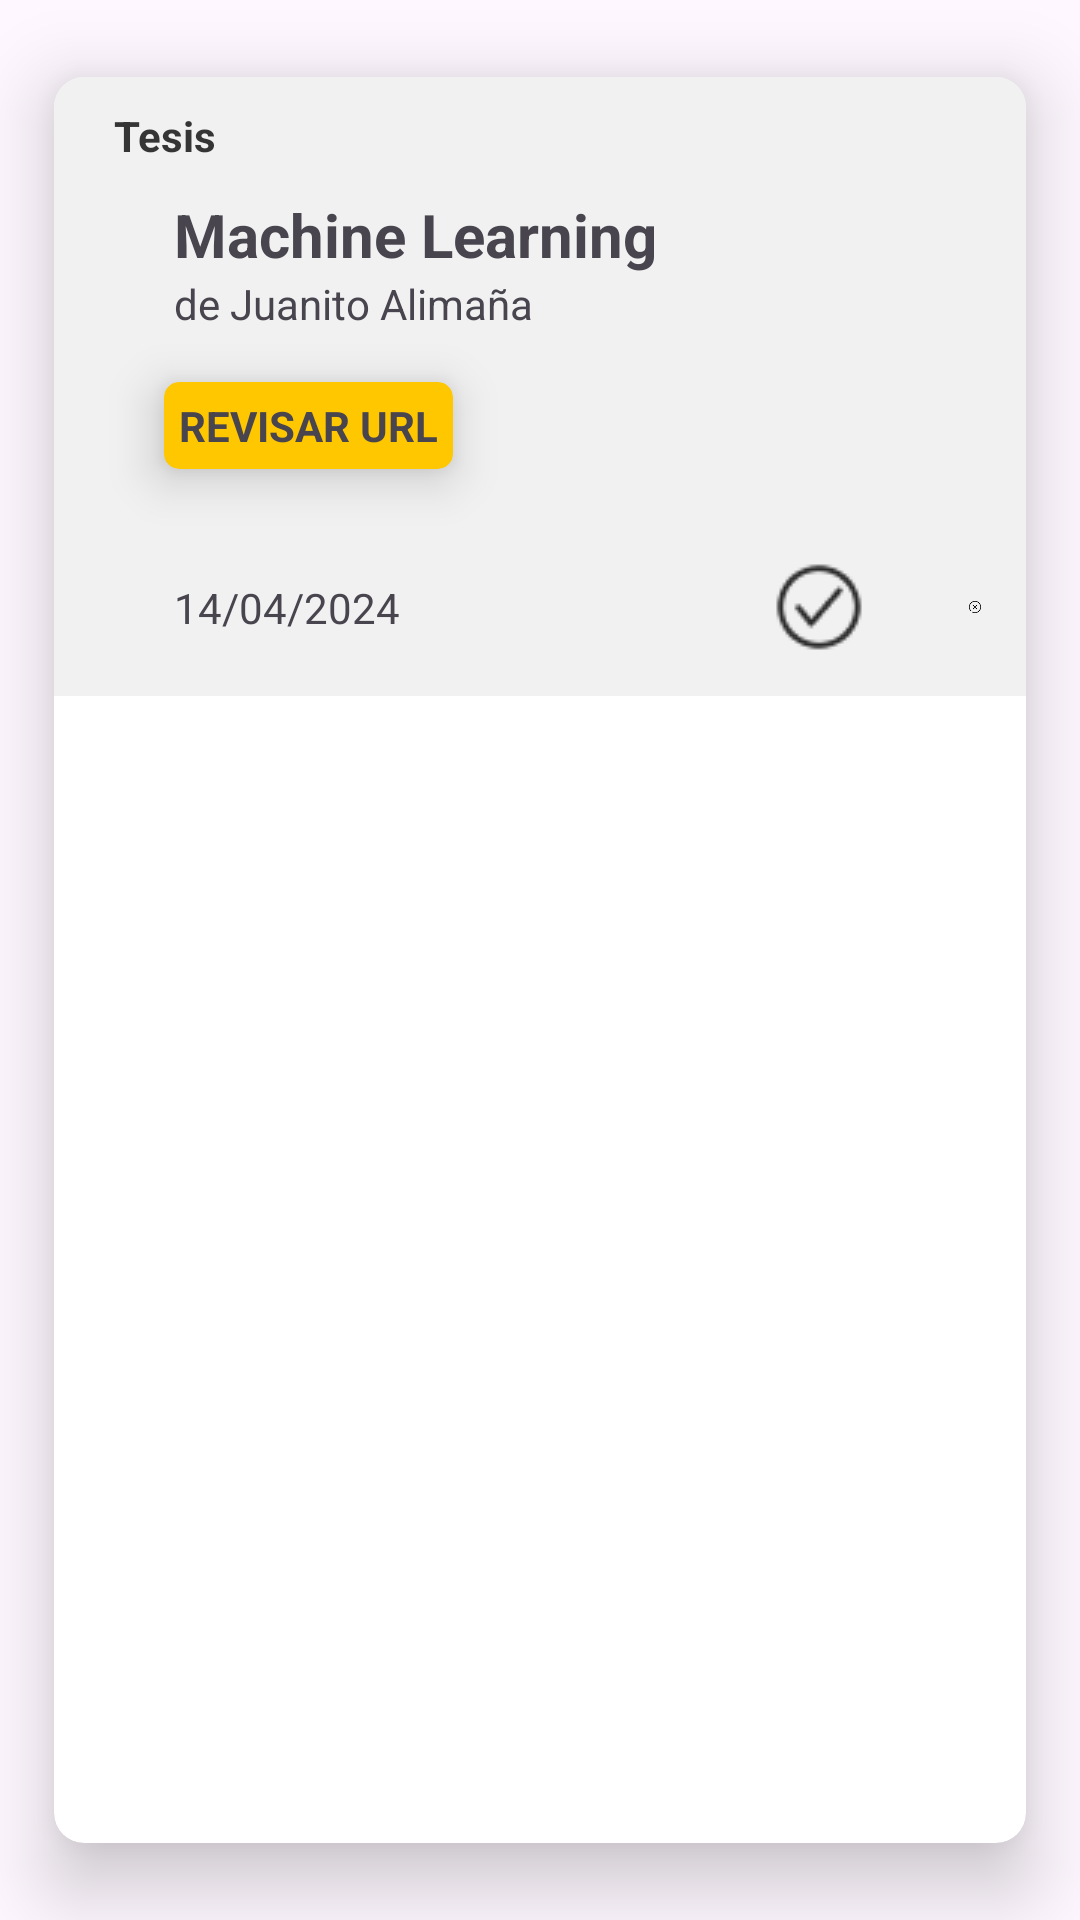

Named icons in this screenshot (1080px x 1920px) and their bounding boxes, (x1, y1, x2, y2):
change accept: (776, 564, 862, 650)
